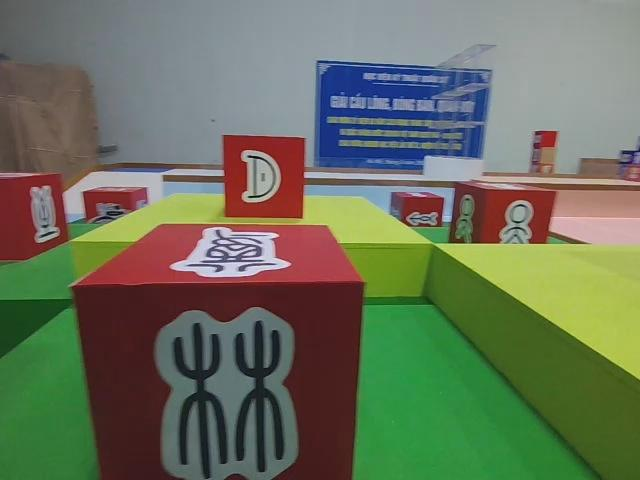R1: (80, 184, 149, 228)
R2 Fake: (69, 222, 367, 480), (0, 170, 71, 263)
R2 Real: (221, 131, 306, 220), (450, 181, 555, 248), (390, 189, 444, 228)
